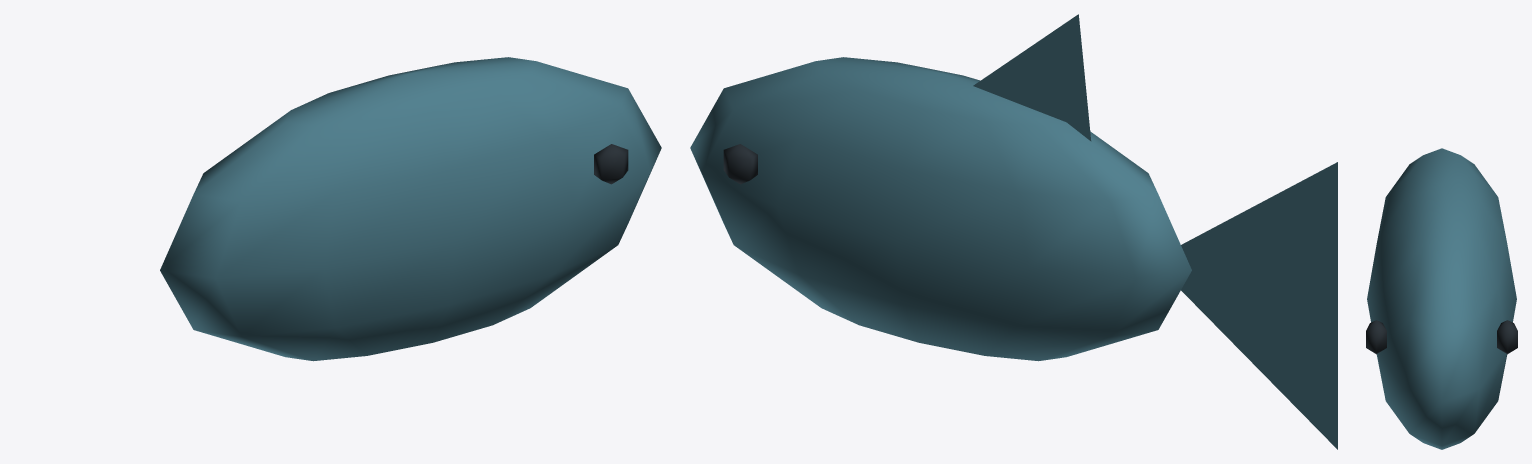
File: fish_blue.glb
The picture shows the model from 3 angles, left to right: view 1: azimuth 30°, elevation 25°; view 2: azimuth 150°, elevation 25°; view 3: azimuth 270°, elevation 25°; orthographic projection. The views are drawn at different scales.
Parts seen in each view (by area): view 1: fish_blue; view 2: fish_blue; view 3: fish_blue.
Boxes of the visible parts, bbox=[...] form: fish_blue: bbox=[160, 57, 661, 361]; fish_blue: bbox=[690, 14, 1337, 449]; fish_blue: bbox=[1366, 148, 1517, 449].
Bounding box in the file's own units: 0.8 × 0.44 × 0.1924.
